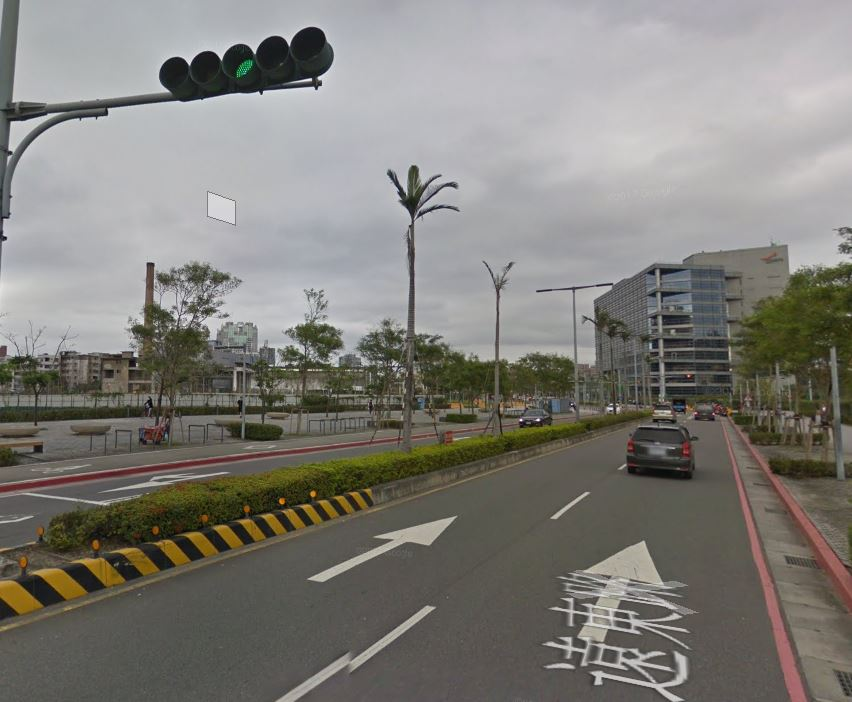Traffic_light_green: (155, 37, 342, 99)
car: (618, 419, 703, 484)
